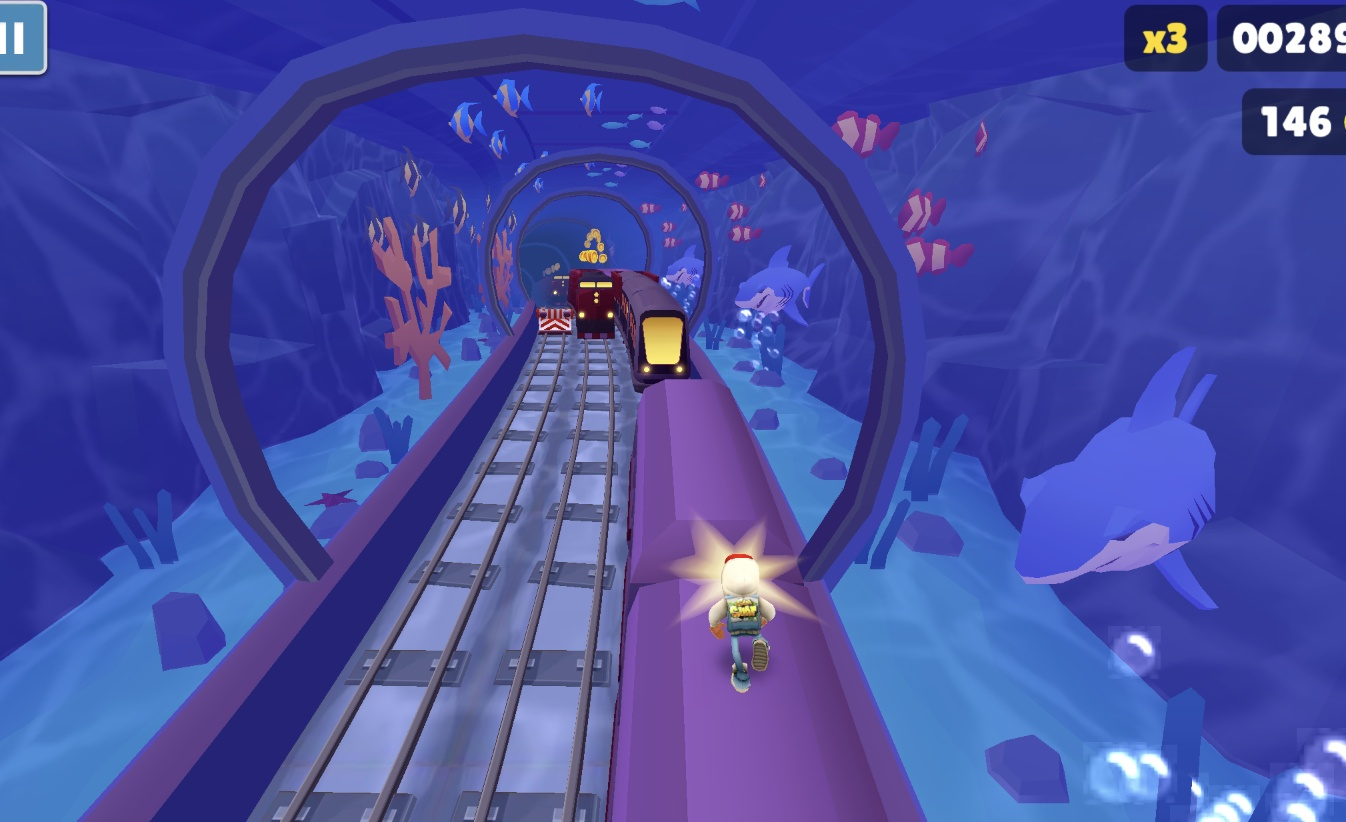ground_barrier: (535, 307, 574, 337)
train: (607, 379, 920, 822), (614, 268, 695, 394), (571, 269, 619, 341), (546, 273, 573, 312)
